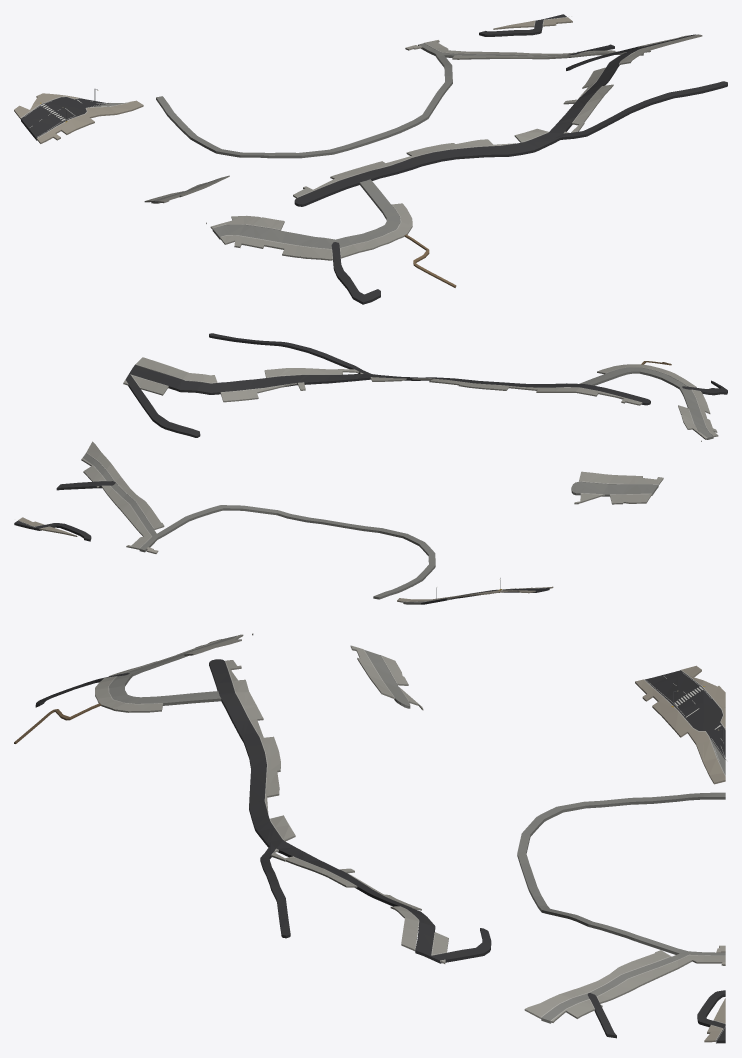
The picture shows the model from 3 angles, top to bottom: view 1: azimuth 30°, elevation 25°; view 2: azimuth 150°, elevation 25°; view 3: azimuth 270°, elevation 25°; orthographic projection. The views are drawn at different scales.
Size of the model in its own units: 296 by 50.12 by 280.
